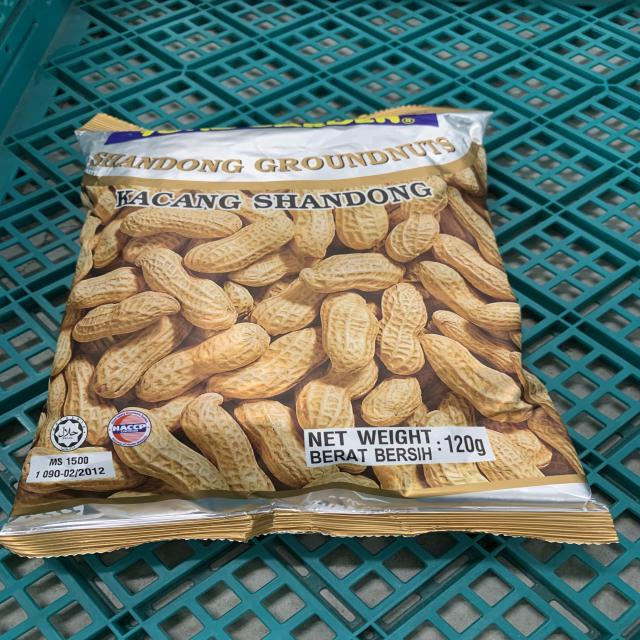object_name: (43, 129, 572, 535)
